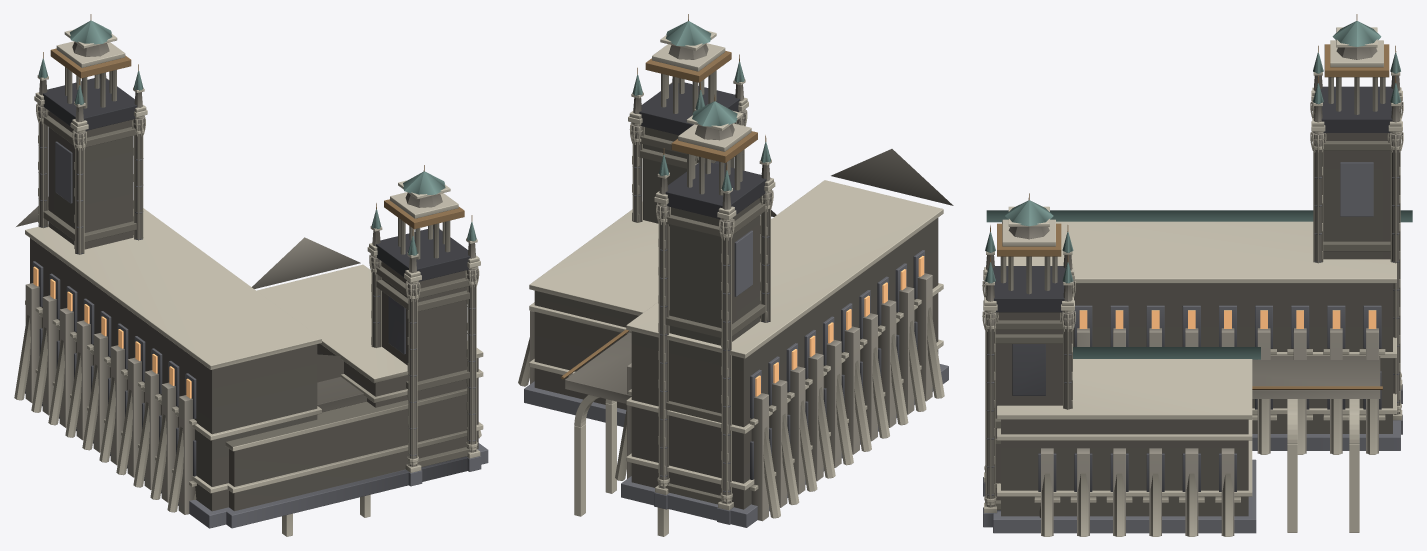
File: abbey-quarter.glb
The picture shows the model from 3 angles, left to right: view 1: azimuth 30°, elevation 25°; view 2: azimuth 150°, elevation 25°; view 3: azimuth 270°, elevation 25°; orthographic projection. The views are drawn at different scales.
Parts seen in each view (by area): view 1: abbey-quarter__limestone, abbey-quarter__pale, abbey-quarter__shadow, abbey-quarter__copper, abbey-quarter__bronze, abbey-quarter__rose_amber; view 2: abbey-quarter__limestone, abbey-quarter__pale, abbey-quarter__shadow, abbey-quarter__copper, abbey-quarter__bronze, abbey-quarter__rose_amber; view 3: abbey-quarter__limestone, abbey-quarter__pale, abbey-quarter__shadow, abbey-quarter__copper, abbey-quarter__bronze, abbey-quarter__rose_amber.
Boxes of the visible parts, x1,y1,x2,y2 form: abbey-quarter__limestone: (16,42,478,514); abbey-quarter__pale: (14,29,483,536); abbey-quarter__shadow: (25,78,488,528); abbey-quarter__copper: (38,20,476,255); abbey-quarter__bronze: (43,14,472,235); abbey-quarter__rose_amber: (33,266,191,398); abbey-quarter__limestone: (530,44,953,521); abbey-quarter__pale: (518,30,944,536); abbey-quarter__shadow: (524,82,948,527); abbey-quarter__copper: (632,21,770,191); abbey-quarter__bronze: (561,14,766,379); abbey-quarter__rose_amber: (755,256,924,396); abbey-quarter__limestone: (983,47,1402,535); abbey-quarter__pale: (982,27,1403,536); abbey-quarter__shadow: (983,86,1402,533); abbey-quarter__copper: (985,21,1412,359); abbey-quarter__bronze: (990,14,1396,389); abbey-quarter__rose_amber: (1079,310,1376,328).
Bounding box in the file's own units: 148 × 193 × 167.
